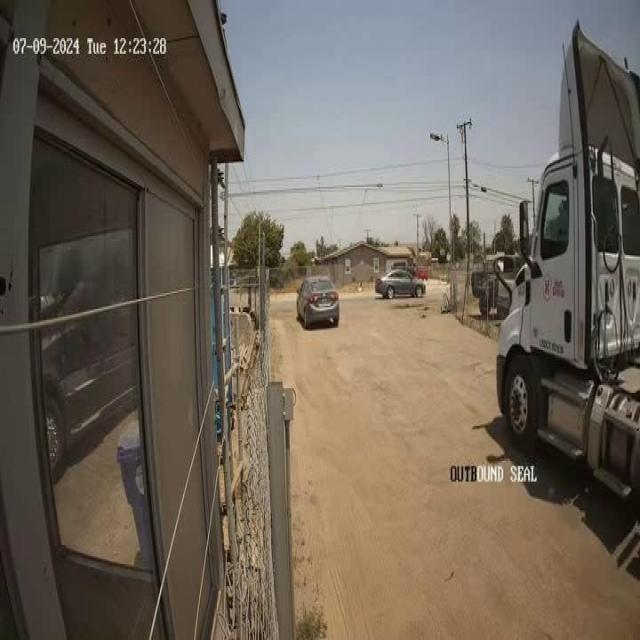TRUCK_OUT: (494, 18, 639, 503)
